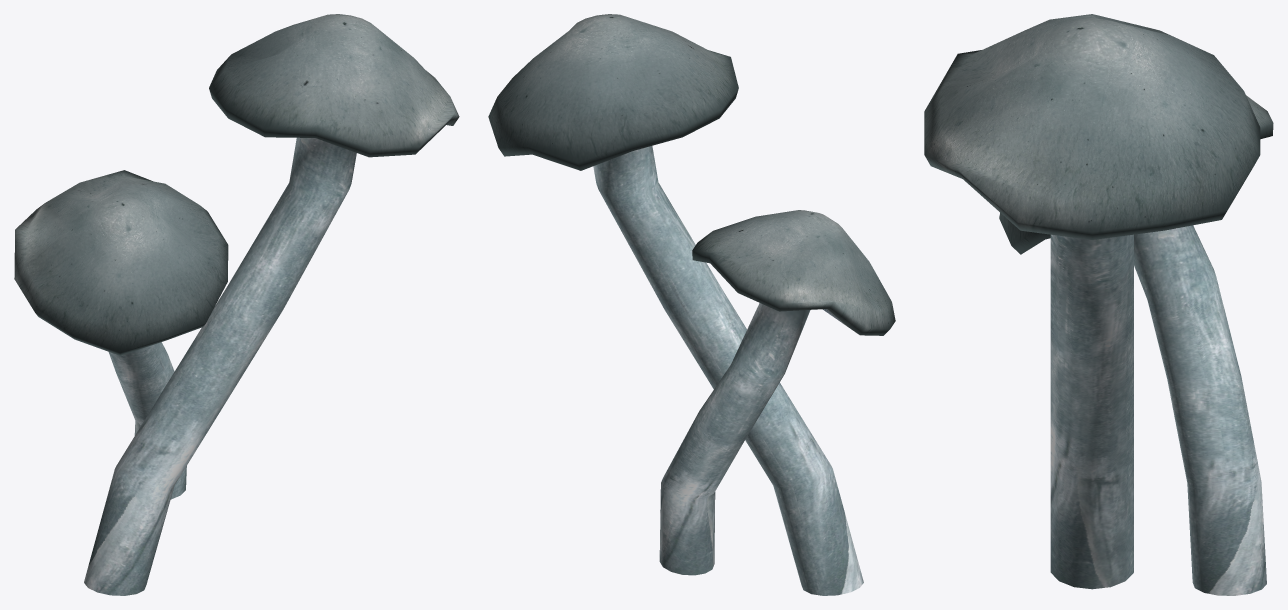
Rendered from mushy1_LOD.FBX.
3 views of the same model, side by side, from view 1: azimuth 30°, elevation 25°; view 2: azimuth 150°, elevation 25°; view 3: azimuth 270°, elevation 25° (orthographic). The views are drawn at different scales.
Visible parts, largest first — view 1: mushy1uv, mushy1uv001; view 2: mushy1uv, mushy1uv001; view 3: mushy1uv, mushy1uv001.
Part boxes in pixels (<box>): mushy1uv: <box>84,14,459,595</box>; mushy1uv001: <box>14,170,228,499</box>; mushy1uv: <box>488,14,863,595</box>; mushy1uv001: <box>659,210,895,575</box>; mushy1uv: <box>924,14,1260,589</box>; mushy1uv001: <box>999,95,1273,595</box>.
Bounding box in the file's own units: 133 × 74.67 × 164.
